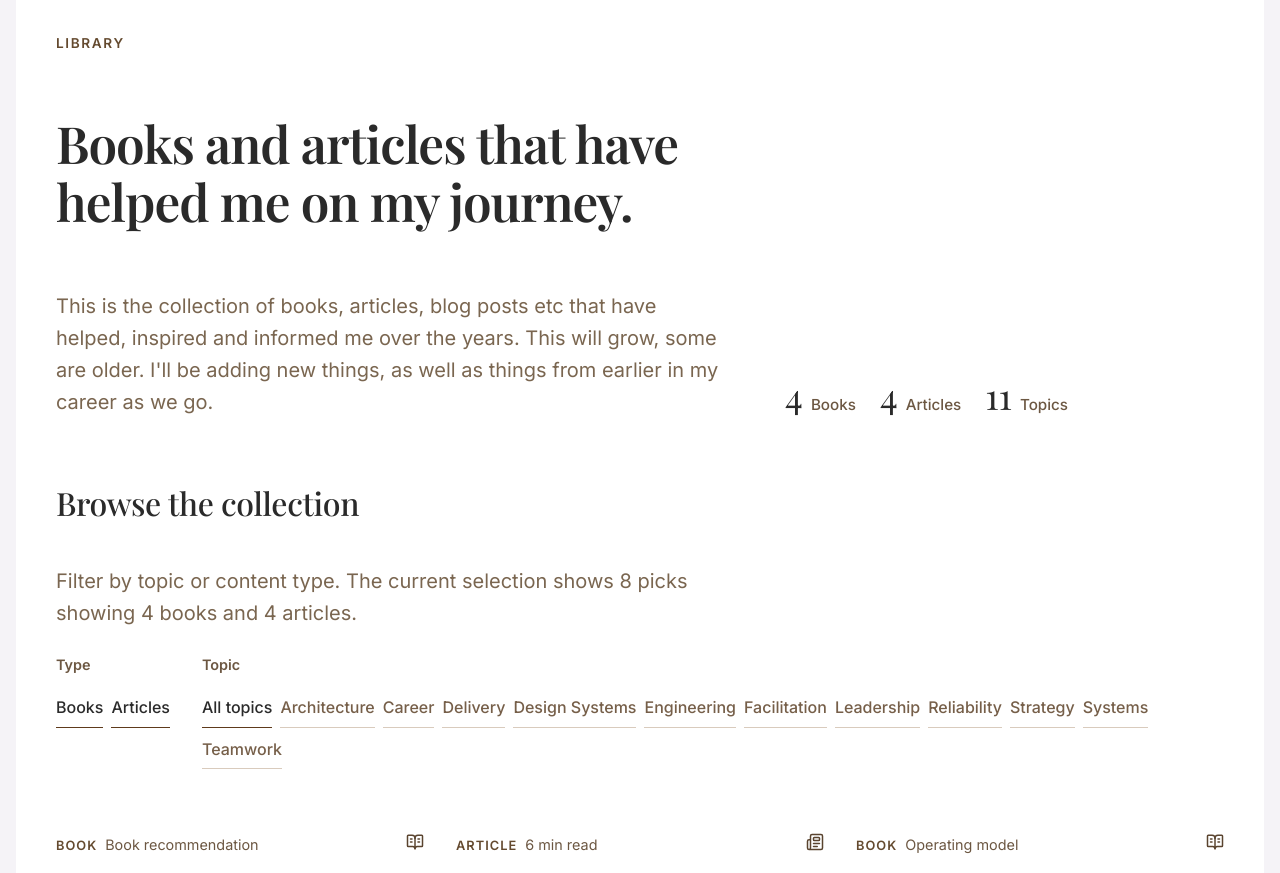
Test case: type filters can narrow the mixed collection to books only
Click the button "Articles": (141, 711) [111,694,170,728]
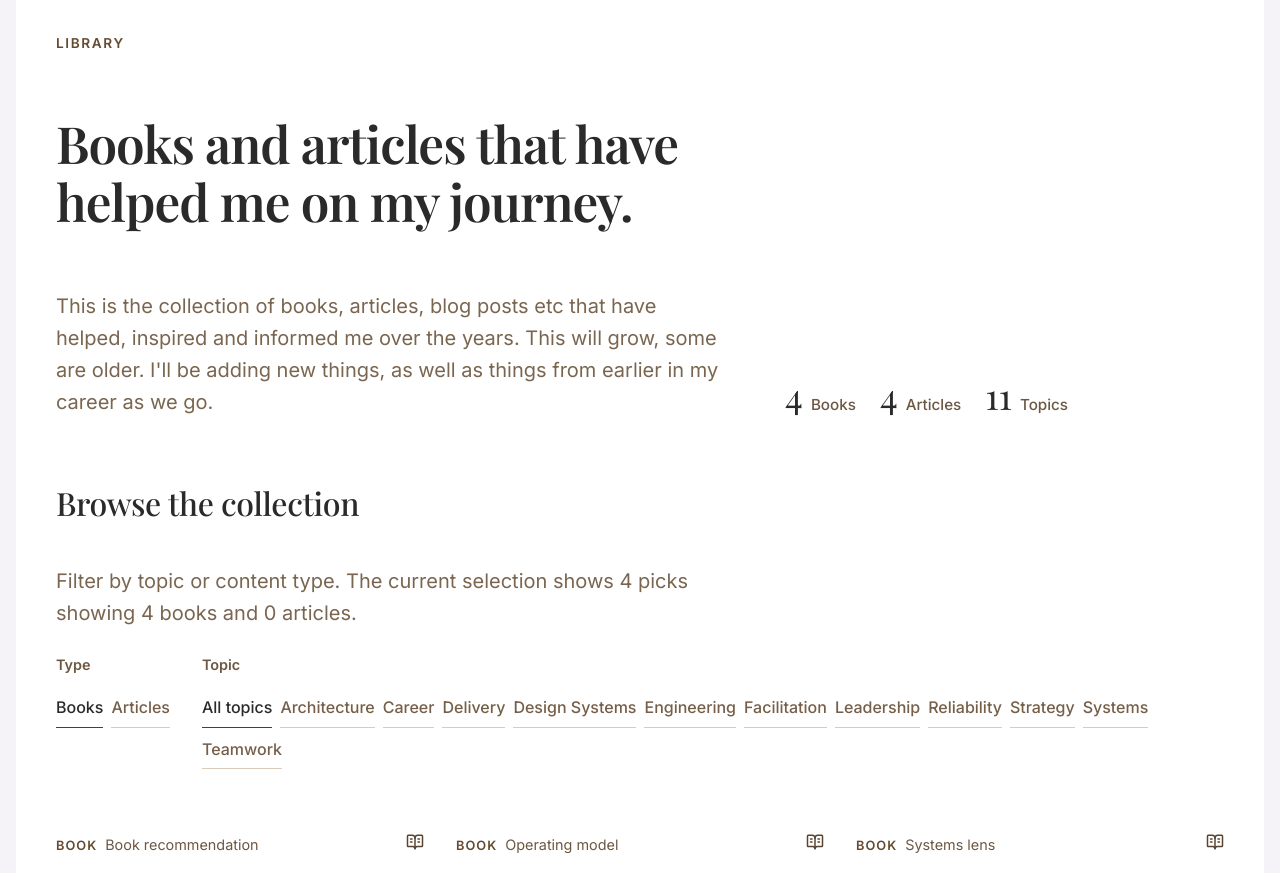
Check: the text "4 picks showing 4 books and 0 articles" is shown, box [56,569,688,625]
